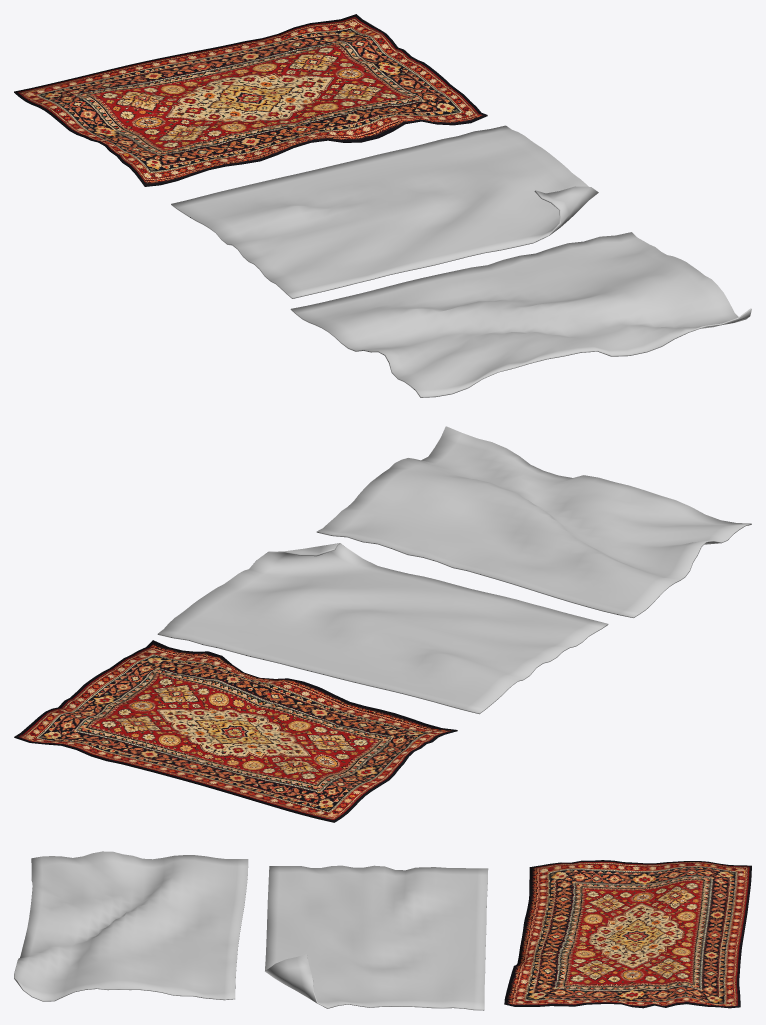
Rendered from Alfombras.fbx.
The picture shows the model from 3 angles, top to bottom: view 1: azimuth 30°, elevation 25°; view 2: azimuth 150°, elevation 25°; view 3: azimuth 270°, elevation 25°; orthographic projection. The views are drawn at different scales.
Parts seen in each view (by area): view 1: Plane.003, Plane, Plane.001; view 2: Plane.001, Plane.003, Plane; view 3: Plane.003, Plane.001, Plane.
Boxes of the visible parts, x1,y1,x2,y2 form: Plane.003: (14, 14, 487, 186); Plane: (171, 125, 598, 298); Plane.001: (290, 232, 751, 397); Plane.001: (316, 426, 751, 617); Plane.003: (14, 640, 457, 822); Plane: (157, 543, 608, 714); Plane.003: (504, 860, 751, 1008); Plane.001: (14, 851, 248, 1001); Plane: (265, 865, 488, 1010).
Size of the model in its own units: 319 by 27.48 by 670.
